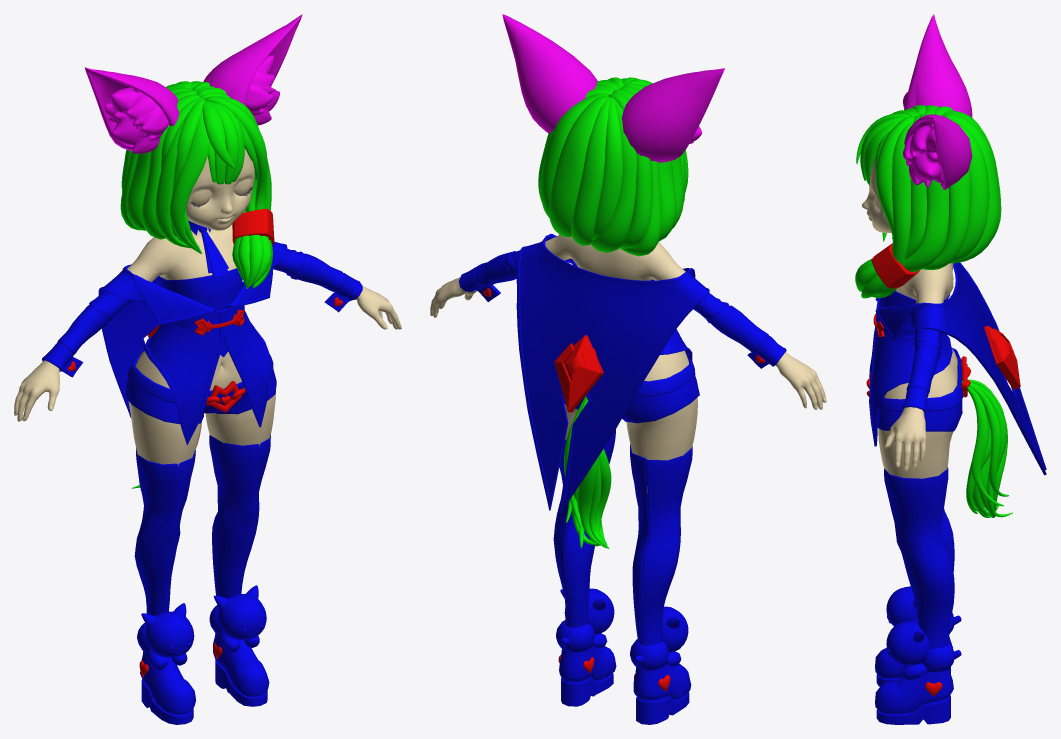
The model's file is Chara.fbx.
3 views of the same model, side by side, from view 1: azimuth 30°, elevation 25°; view 2: azimuth 150°, elevation 25°; view 3: azimuth 270°, elevation 25° (orthographic). The views are drawn at different scales.
Visible parts, largest first — view 1: body_closed_eyes, polySurface226, polySurface229, outer_cloth, cloak, polySurface225 (×2), Ear_right, Ear_Left, pant, polySurface175, inner_cloth, polySurface190 (+15 smaller); view 2: cloak, polySurface229, body_closed_eyes, polySurface226, Ear_right, Ear_Left, polySurface225 (×2), polySurface194, polySurface183, pant, polySurface184, crystal (+13 smaller); view 3: polySurface226, cloak, body_closed_eyes, Ear_Left, polySurface225 (×2), Ear_right, outer_cloth, pant, polySurface179, polySurface181, polySurface195, polySurface182 (+19 smaller).
Boxes of the visible parts, x1,y1,x2,y2 form: body_closed_eyes: (127, 148, 275, 466); polySurface226: (209, 434, 270, 706); polySurface229: (134, 448, 195, 724); outer_cloth: (143, 305, 270, 445); cloak: (98, 241, 287, 417); polySurface225 (×2): (137, 585, 266, 670); Ear_right: (84, 67, 179, 153); Ear_Left: (203, 14, 302, 125); pant: (125, 355, 276, 424); polySurface175: (169, 108, 210, 253); inner_cloth: (158, 268, 242, 357); polySurface190: (126, 90, 263, 288); cloak: (516, 233, 709, 512); polySurface229: (630, 444, 692, 724); body_closed_eyes: (545, 234, 697, 492); polySurface226: (553, 429, 616, 706); Ear_right: (621, 68, 724, 162); Ear_Left: (502, 14, 597, 133); polySurface225 (×2): (556, 588, 688, 670); polySurface194: (549, 96, 608, 237); polySurface183: (571, 96, 610, 245); pant: (562, 359, 699, 423); polySurface184: (590, 99, 636, 252); crystal: (554, 335, 603, 412); polySurface226: (875, 467, 954, 724); cloak: (875, 262, 1046, 475); body_closed_eyes: (862, 157, 957, 478); Ear_Left: (903, 114, 972, 190); polySurface225 (×2): (886, 586, 961, 679); Ear_right: (903, 14, 972, 117); outer_cloth: (869, 299, 952, 446); pant: (877, 348, 963, 431); polySurface179: (874, 121, 913, 295); polySurface181: (902, 180, 948, 272); polySurface195: (943, 116, 989, 261); polySurface182: (922, 169, 970, 269).
Size of the model in its own units: 1.34 by 2.21 by 0.6037.
